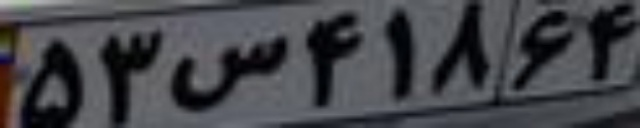1: (381, 9, 416, 99)
3: (98, 29, 154, 125)
4: (304, 13, 368, 109), (586, 3, 639, 81)
5: (20, 39, 81, 127)
6: (512, 9, 572, 90)
8: (428, 2, 493, 95)
sin: (171, 36, 289, 113)
